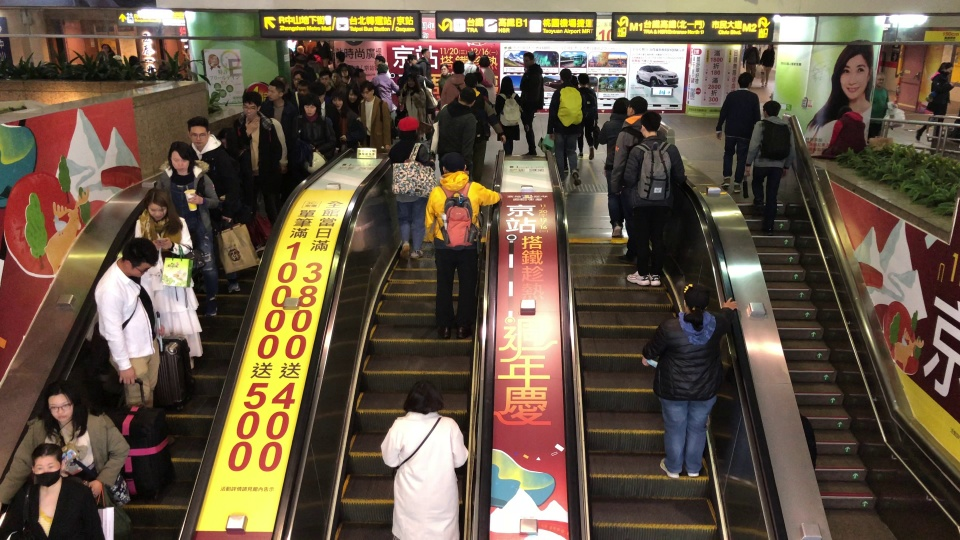person_head: (42, 378, 83, 423), (120, 237, 159, 279), (402, 378, 445, 414), (30, 442, 65, 485), (167, 140, 194, 173), (682, 284, 710, 313), (144, 189, 170, 219), (186, 116, 210, 145), (639, 110, 663, 137), (240, 90, 263, 118), (396, 115, 419, 139), (442, 151, 466, 174), (217, 127, 238, 152), (626, 95, 648, 116), (267, 78, 285, 102), (457, 87, 477, 107), (302, 94, 320, 116), (736, 71, 754, 90), (612, 96, 629, 115), (762, 100, 781, 117), (359, 80, 374, 100), (312, 83, 326, 103), (330, 92, 345, 110), (318, 68, 332, 87), (292, 69, 306, 87), (499, 75, 514, 91), (464, 72, 478, 88), (522, 51, 535, 68), (354, 68, 367, 83), (938, 62, 954, 74), (347, 86, 358, 103), (478, 53, 491, 67), (875, 70, 886, 86), (376, 62, 389, 75), (578, 73, 590, 87), (406, 72, 417, 87), (559, 68, 572, 80), (297, 80, 308, 94), (334, 51, 345, 64), (331, 69, 341, 83), (294, 54, 307, 64), (467, 50, 477, 63), (128, 54, 139, 65), (439, 63, 449, 75), (406, 53, 416, 64), (421, 47, 430, 59), (474, 71, 483, 83), (375, 54, 385, 64), (101, 43, 111, 52), (311, 46, 319, 56), (340, 65, 347, 76), (296, 44, 304, 53), (767, 43, 773, 49), (748, 43, 753, 46)
person_vbox: (1, 378, 133, 540), (639, 283, 739, 479), (424, 151, 503, 340), (379, 378, 469, 540), (133, 187, 204, 370), (93, 237, 165, 409), (155, 140, 221, 318), (622, 110, 687, 285), (1, 442, 104, 540), (186, 116, 242, 295), (610, 95, 667, 268), (231, 90, 284, 253), (387, 114, 436, 261), (745, 100, 796, 235), (447, 73, 506, 185), (715, 70, 762, 194), (598, 96, 630, 238), (427, 86, 477, 176), (546, 67, 583, 188), (916, 62, 958, 143), (257, 78, 299, 155), (291, 94, 337, 162), (494, 75, 528, 157), (519, 51, 545, 156), (370, 62, 399, 146), (359, 80, 391, 153), (312, 82, 340, 157), (396, 71, 426, 138), (330, 91, 364, 149), (577, 72, 599, 161), (450, 51, 494, 88), (867, 70, 889, 139), (289, 54, 316, 90), (478, 54, 496, 106), (396, 52, 418, 94), (742, 42, 760, 83), (760, 42, 775, 89), (418, 47, 433, 81), (437, 62, 452, 96), (316, 39, 332, 67), (373, 54, 391, 76), (339, 65, 354, 85)
